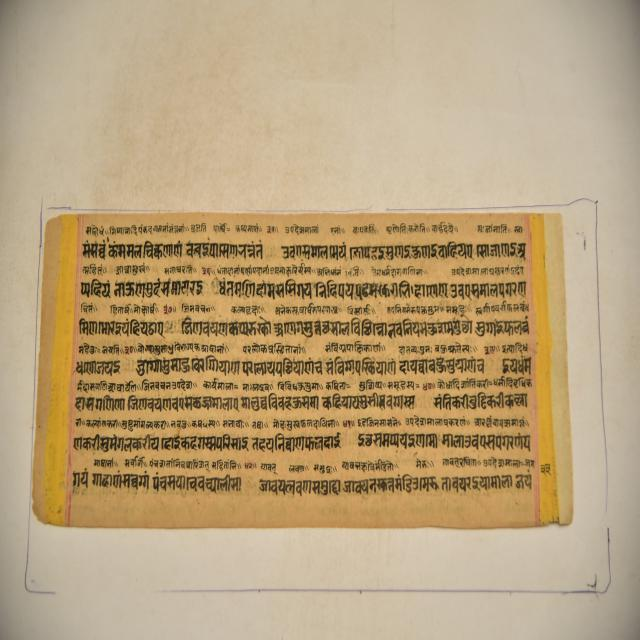text_paragraph: (33, 212, 571, 526)
